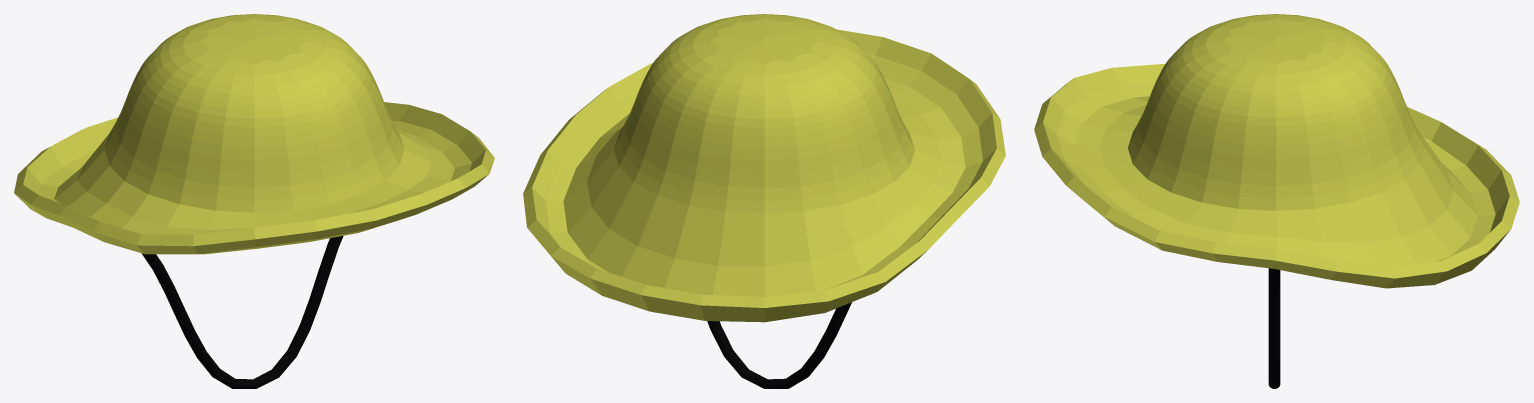
The model's file is Hat .fbx.
The picture shows the model from 3 angles, left to right: view 1: azimuth 30°, elevation 25°; view 2: azimuth 150°, elevation 25°; view 3: azimuth 270°, elevation 25°; orthographic projection.
Visible parts, largest first — view 1: Cylinder.002, Cylinder.001; view 2: Cylinder.002, Cylinder.001; view 3: Cylinder.002, Cylinder.001.
Part boxes in pixels (x1,y1,x2,y2): Cylinder.002: [14, 14, 494, 254]; Cylinder.001: [142, 236, 343, 388]; Cylinder.002: [523, 14, 1005, 322]; Cylinder.001: [707, 302, 851, 388]; Cylinder.002: [1034, 14, 1519, 288]; Cylinder.001: [1268, 268, 1280, 388].
Size of the model in its own units: 29.9 by 25.48 by 32.48.
